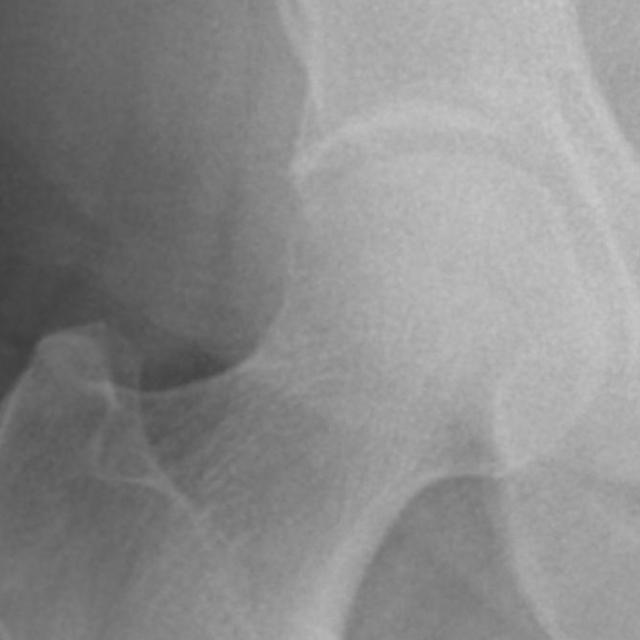Fitted_femural_head: (351, 145, 432, 351)
